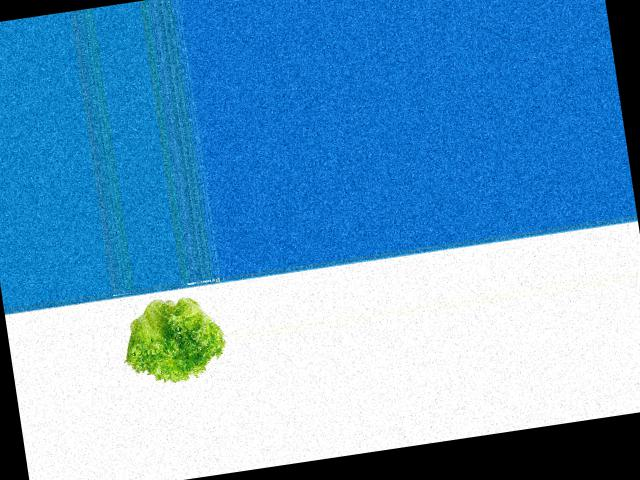lettuce: (119, 285, 230, 391)
